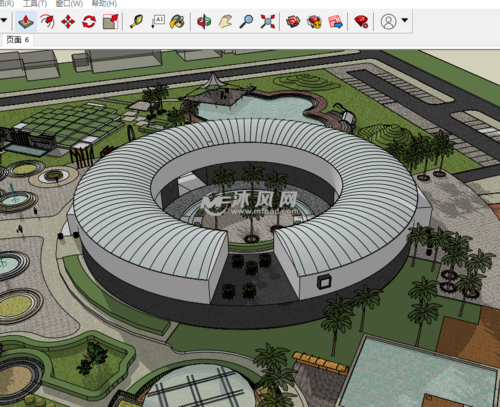buildings: (45, 48, 457, 298), (254, 100, 425, 285), (63, 135, 242, 309)
